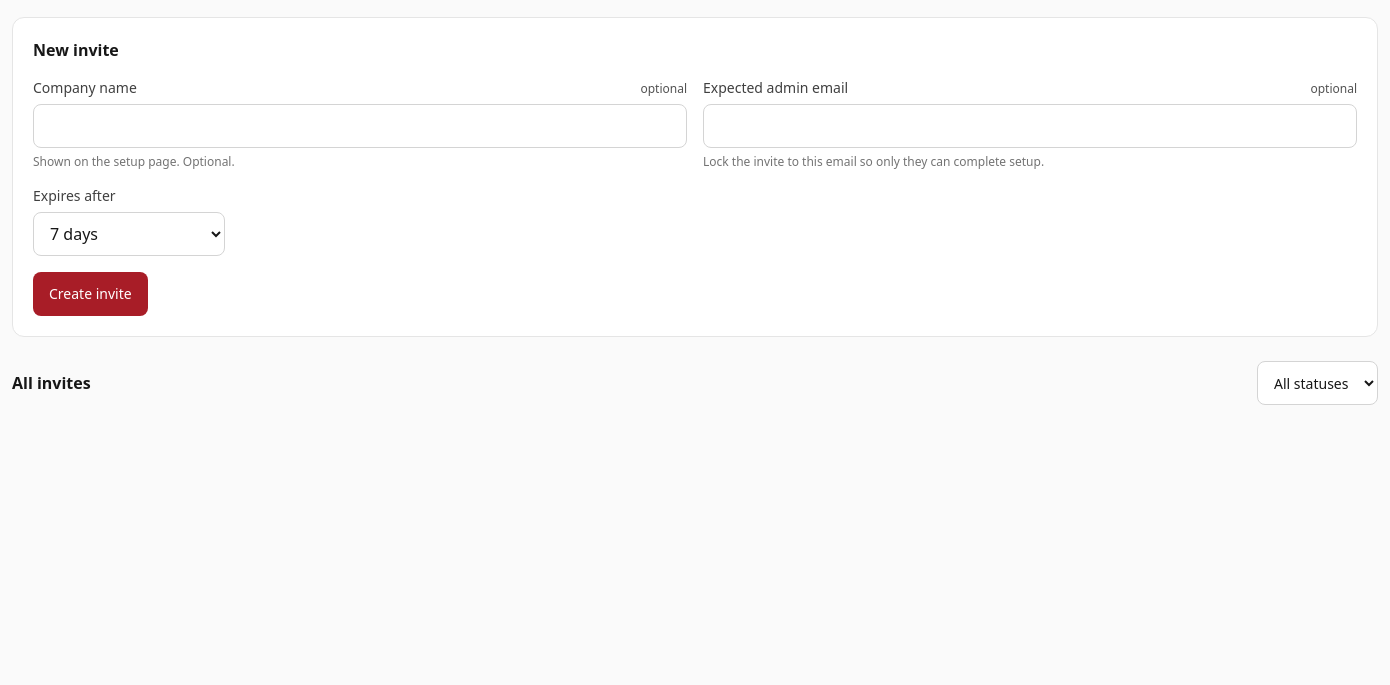
Test: one-time invite card › shows the link once with the warning and the share buttons, and sends the right payload
Type "Acme Quarry" into the field labelled "Company name optional".
click(360, 126); type("Acme Quarry")  # box [33,104,687,148]
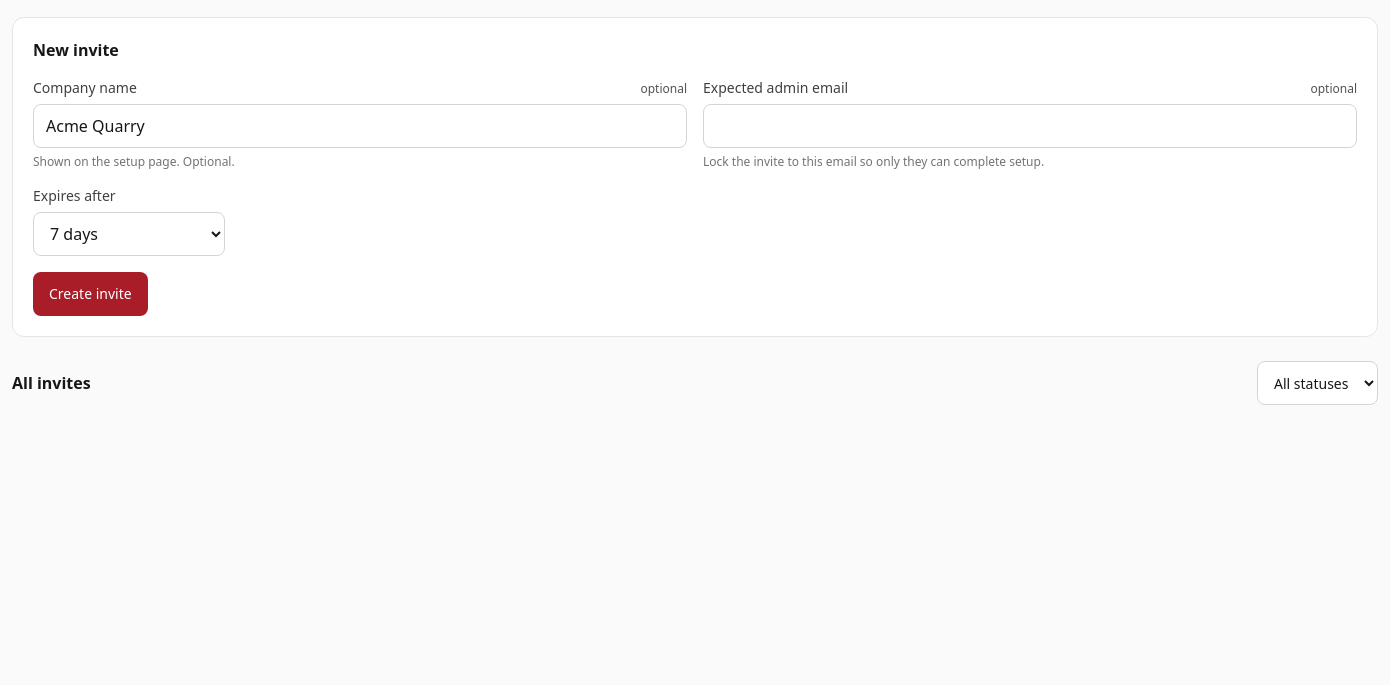
Type "Ada@Acme.test" into the field labelled "Expected admin email optional".
click(1030, 126); type("Ada@Acme.test")  # box [703,104,1357,148]
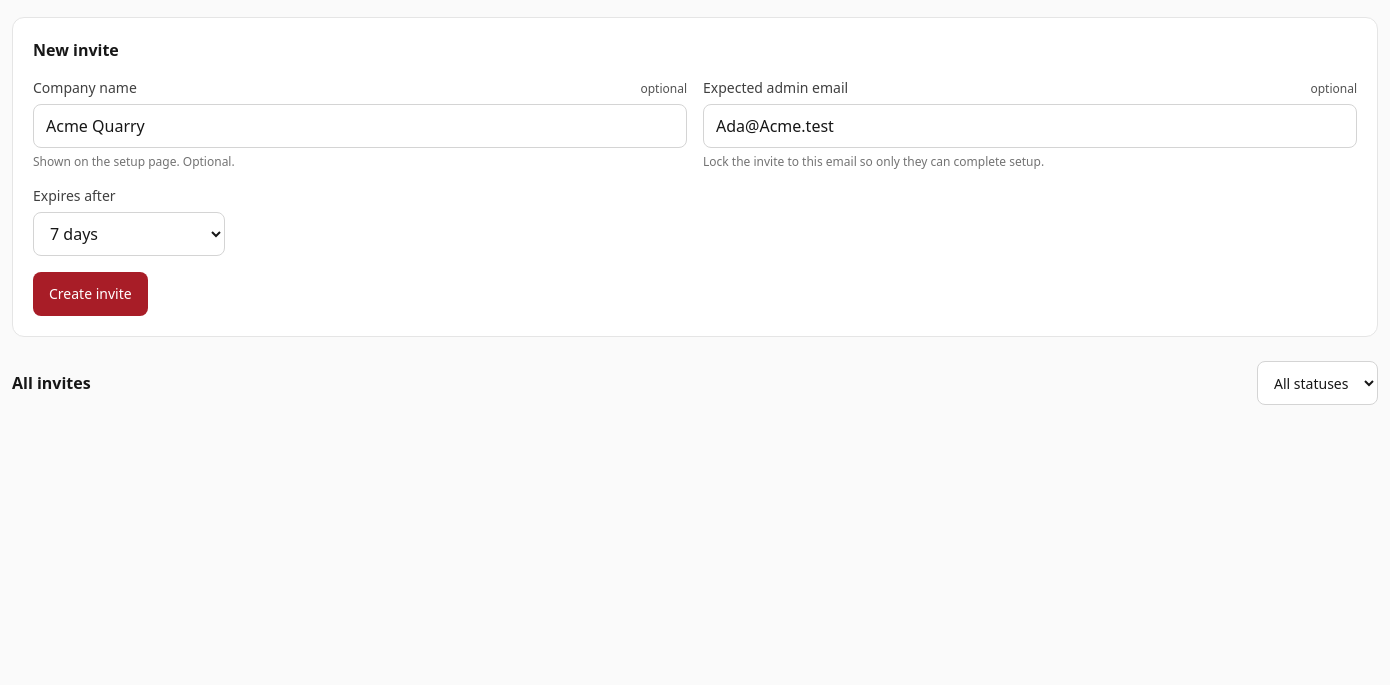
Click the button "Create invite".
click(90, 294)  # box [33,272,148,316]
(page scrolled)
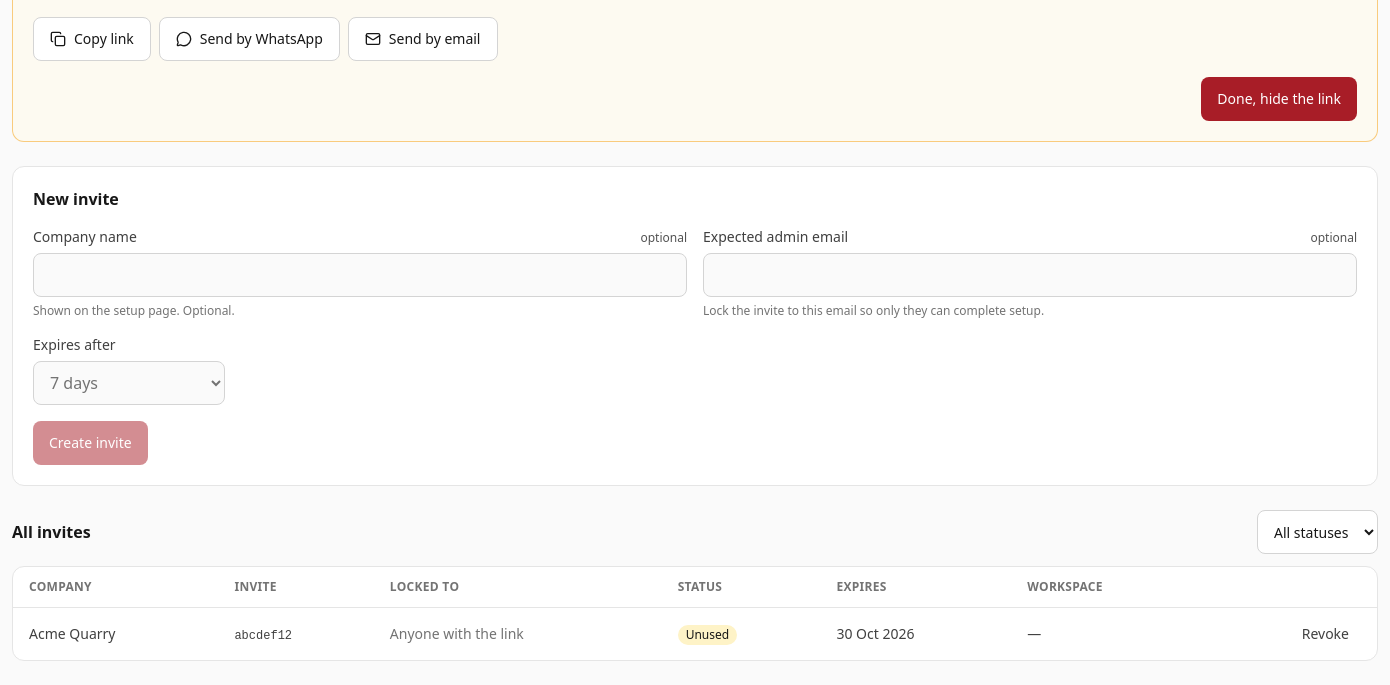
Now the button "Create invite" is disabled, box [33,421,148,465]
